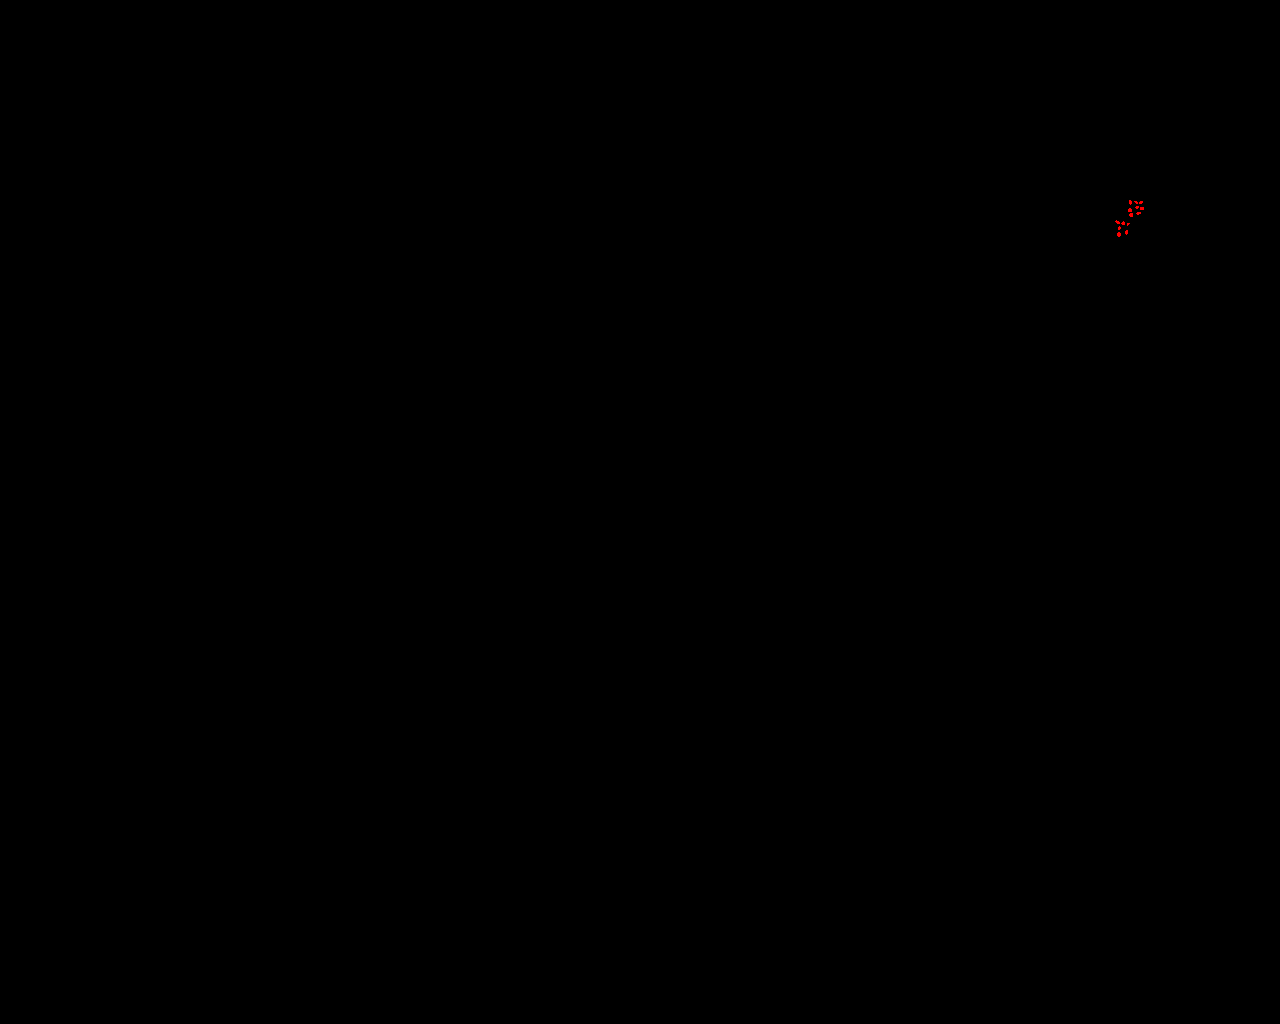Target: (1117, 232, 1121, 237), (1128, 213, 1133, 217), (1128, 200, 1132, 205), (1136, 212, 1141, 215), (1115, 220, 1120, 224), (1125, 230, 1128, 235), (1134, 201, 1138, 204), (1139, 201, 1143, 204), (1135, 206, 1139, 209), (1140, 207, 1144, 210), (1128, 208, 1132, 212), (1121, 222, 1125, 225), (1118, 226, 1121, 230), (1127, 223, 1130, 226)
